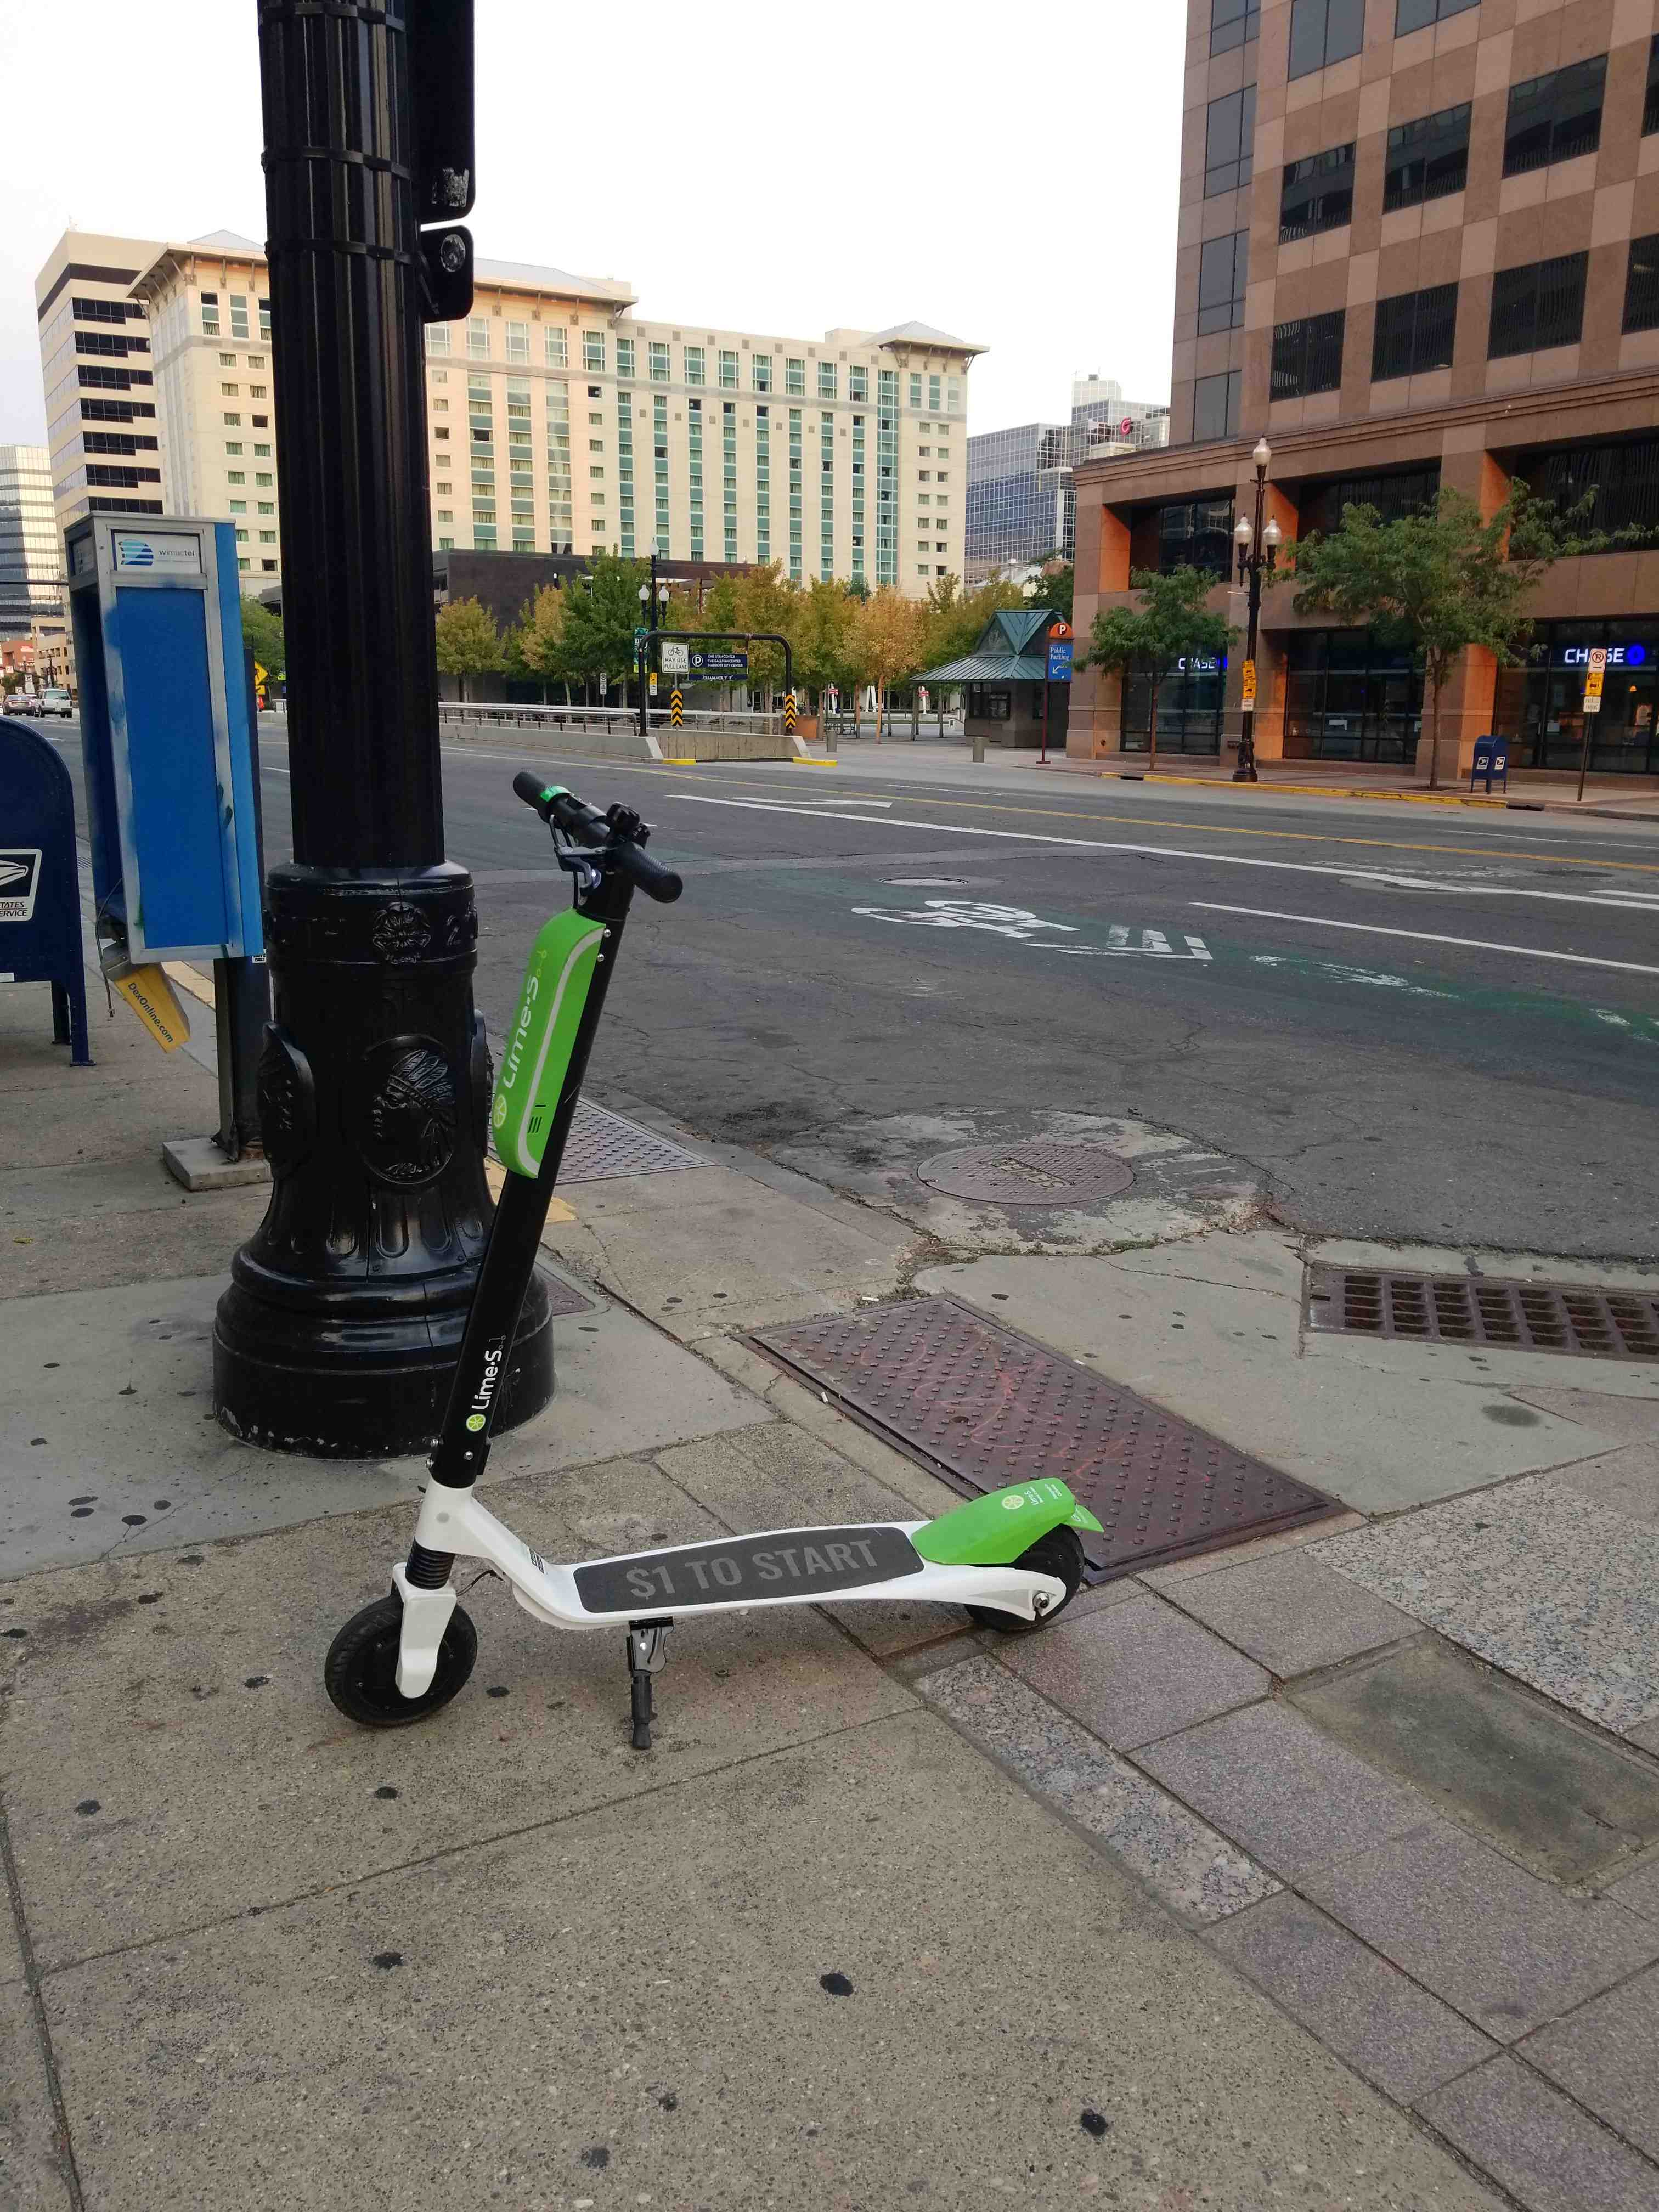scooter: (364, 754, 1124, 1723)
